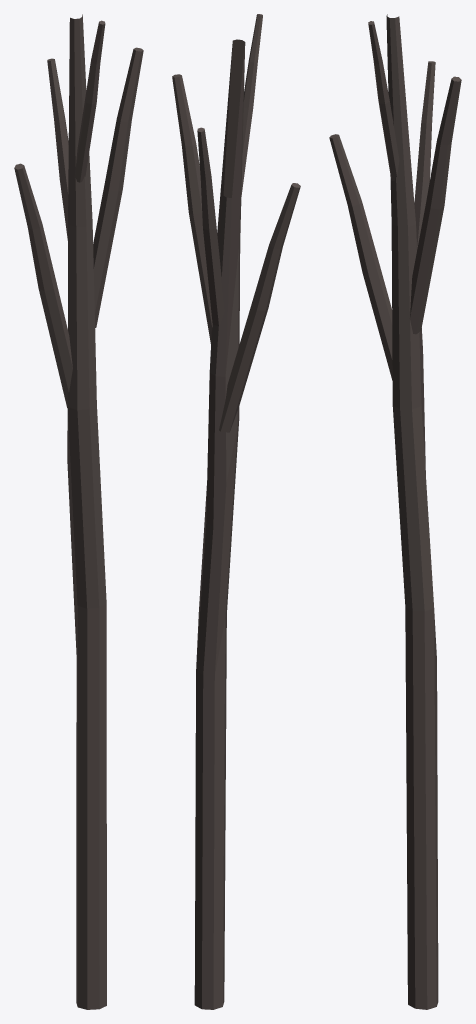
Rendered from Birch_Dead.fbx.
3 views of the same model, side by side, from view 1: azimuth 30°, elevation 25°; view 2: azimuth 150°, elevation 25°; view 3: azimuth 330°, elevation 25° (orthographic). The views are drawn at different scales.
Visible parts, largest first — view 1: Birch_Dead; view 2: Birch_Dead; view 3: Birch_Dead.
Boxes of the visible parts, left/top/right/bottom form: Birch_Dead: left=14, top=14, right=143, bottom=1009; Birch_Dead: left=172, top=14, right=300, bottom=1009; Birch_Dead: left=329, top=14, right=461, bottom=1009.
Size of the model in its own units: 88.54 by 660 by 70.64.
